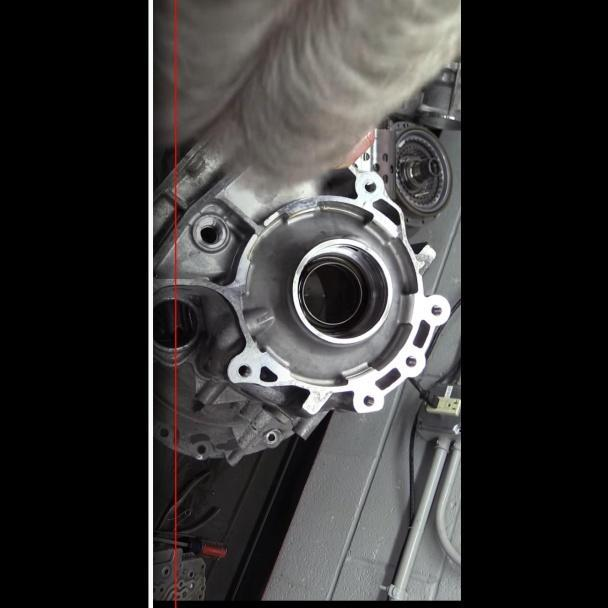hole: (236, 364, 252, 380), (361, 179, 377, 194), (429, 302, 443, 318), (360, 394, 375, 407), (405, 355, 418, 368)
